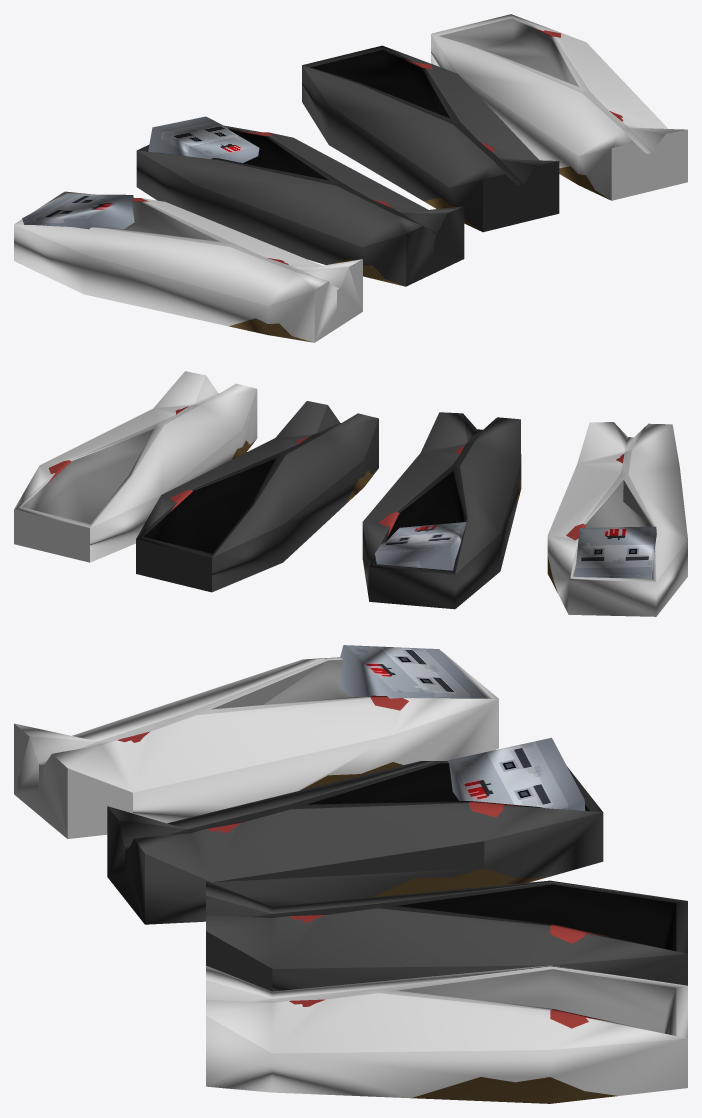
The model's file is apoc_prop_53.glb.
3 views of the same model, one above another, from view 1: azimuth 30°, elevation 25°; view 2: azimuth 150°, elevation 25°; view 3: azimuth 270°, elevation 25° (orthographic). The views are drawn at different scales.
Parts seen in each view (by area): view 1: prop_055; view 2: prop_055; view 3: prop_055.
Boxes of the visible parts, box(x1,y1,x2,y2) form: prop_055: box(14, 14, 687, 342); prop_055: box(14, 371, 687, 616); prop_055: box(14, 645, 687, 1103).
Size of the model in its own units: 0.7312 by 0.0687 by 0.5172.
Materials: 1 (1 with a texture image).
